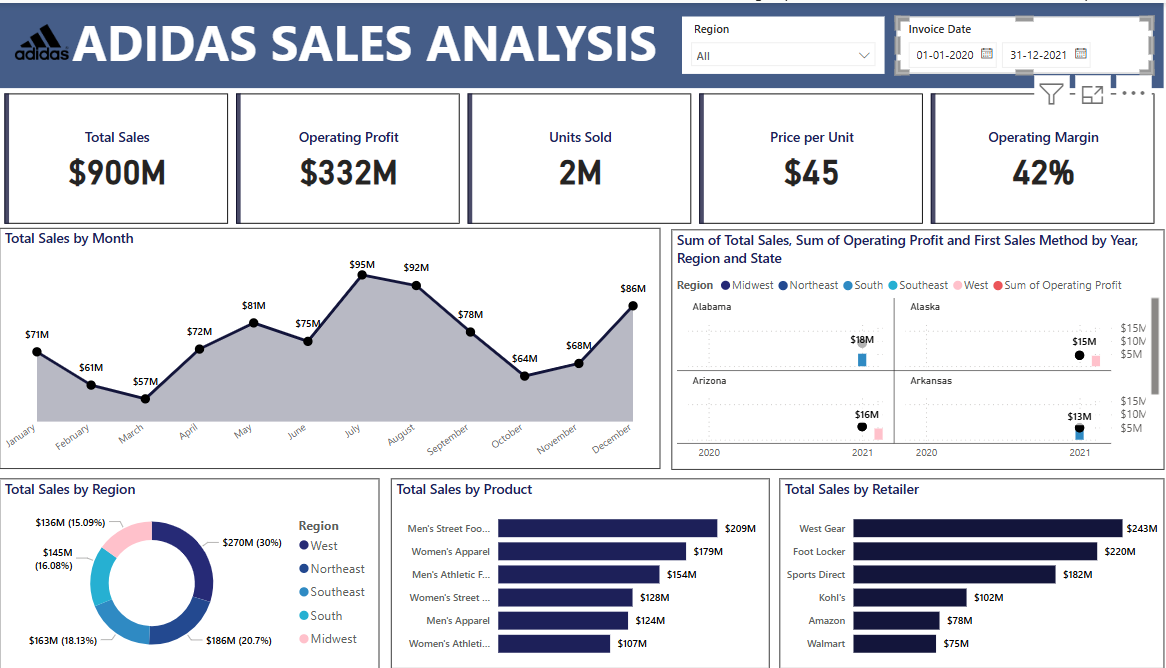

This screenshot's page, from the dashboard's own definition file:
{"tool":"powerbi","page":{"name":"Page 1","canvas":[1280,720],"ordinal":0},"visuals":[{"type":"textbox","box":[11.7,0,1256.7,91.7],"z":0},{"type":"cardVisual","fields":{"Data":["Sum(Data Sales Adidas.Total Sales)","Sum(Data Sales Adidas.Operating Profit)","Sum(Data Sales Adidas.Units Sold)","Avg(Data Sales Adidas.Price per Unit)","Avg(Data Sales Adidas.Operating Margin)"]},"box":[11.7,91.7,1256.7,151.7],"z":1000},{"type":"areaChart","title":"Total Sales by Month","fields":{"Category":["Data Sales Adidas.Invoice Date.Variation.Date Hierarchy.Month"],"Y":["Sum(Data Sales Adidas.Total Sales)"]},"box":[11.7,243.3,713.3,260],"z":2000},{"type":"donutChart","title":"Total Sales by Region","fields":{"Category":["Data Sales Adidas.Region"],"Y":["Sum(Data Sales Adidas.Total Sales)"]},"box":[11.7,513.3,410,206],"z":3000},{"type":"barChart","title":"Total Sales by Product","fields":{"Category":["Data Sales Adidas.Product"],"Y":["Sum(Data Sales Adidas.Total Sales)"]},"box":[433.3,513.3,408.3,205],"z":4000},{"type":"barChart","title":"Total Sales by Retailer","fields":{"Y":["Sum(Data Sales Adidas.Total Sales)"],"Category":["Data Sales Adidas.Retailer"]},"box":[853.3,513.3,415,205],"z":5000},{"type":"slicer","fields":{"Values":["Data Sales Adidas.Region"]},"box":[748.3,15,218.3,61.7],"z":6000},{"type":"slicer","fields":{"Values":["Data Sales Adidas.Invoice Date"]},"box":[980,15,276.7,61.7],"z":7000},{"type":"image","box":[23.3,8.3,68.3,68.3],"z":8000},{"type":"lineClusteredColumnComboChart","fields":{"Category":["Data Sales Adidas.Invoice Date.Variation.Date Hierarchy.Year"],"Y":["Sum(Data Sales Adidas.Total Sales)"],"Y2":["Sum(Data Sales Adidas.Operating Profit)"],"Rows":["Data Sales Adidas.State"],"Series":["Data Sales Adidas.Region"]},"box":[737,244,532,259],"z":9000}]}

Visuals, with their boxes in screenshot pixels (x1, y1, x2, y2), scaled from the page's 1280x720 canvas onto the 1166x668 screenshot:
textbox: <box>11,0,1155,85</box>
cardVisual - Sum(Data Sales Adidas.Total Sales) x Sum(Data Sales Adidas.Operating Profit): <box>11,85,1155,226</box>
"Total Sales by Month" areaChart: <box>11,226,660,467</box>
"Total Sales by Region" donutChart: <box>11,476,384,667</box>
"Total Sales by Product" barChart: <box>395,476,767,666</box>
"Total Sales by Retailer" barChart: <box>777,476,1155,666</box>
slicer - Data Sales Adidas.Region: <box>682,14,881,71</box>
slicer - Data Sales Adidas.Invoice Date: <box>893,14,1145,71</box>
image: <box>21,8,83,71</box>
lineClusteredColumnComboChart - Data Sales Adidas.Invoice Date.Variation.Date Hierarchy.Year x Sum(Data Sales Adidas.Total Sales): <box>671,226,1156,467</box>
